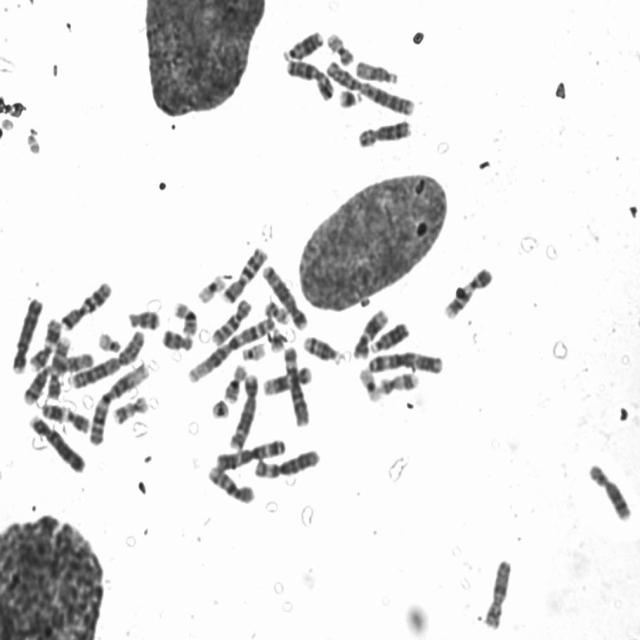A1: (185, 313, 275, 384), (86, 358, 152, 447)
A2: (322, 55, 417, 117), (66, 324, 147, 390)
A3: (212, 435, 286, 471), (365, 346, 446, 376)
B4: (25, 410, 88, 474), (9, 292, 45, 376)
B5: (259, 260, 310, 330), (226, 368, 260, 451)
C10: (208, 293, 254, 347), (205, 460, 257, 506)
C11: (26, 313, 63, 372), (38, 397, 91, 435)
C12: (350, 304, 390, 360), (261, 361, 314, 397)
C6: (281, 341, 313, 428), (251, 444, 322, 480)
C7: (58, 276, 114, 332), (220, 243, 270, 304)
C8: (585, 459, 634, 522), (354, 115, 414, 148)
C9: (440, 262, 494, 320), (46, 331, 72, 400)
D13: (280, 25, 325, 62), (367, 318, 412, 354)
D14: (299, 330, 344, 366), (20, 361, 52, 406)
D15: (354, 54, 401, 85), (56, 347, 95, 376)
E16: (220, 360, 248, 404), (170, 297, 200, 336)
E17: (109, 391, 149, 426), (375, 367, 420, 396)
E18: (158, 324, 195, 352), (124, 305, 162, 331)
F19: (194, 270, 227, 304), (355, 363, 383, 403)
F20: (324, 28, 356, 66), (262, 296, 292, 326)
G21: (335, 84, 363, 110), (266, 324, 287, 353)
G22: (95, 327, 124, 354), (238, 338, 268, 362)
X: (282, 53, 336, 102), (481, 554, 514, 630)
